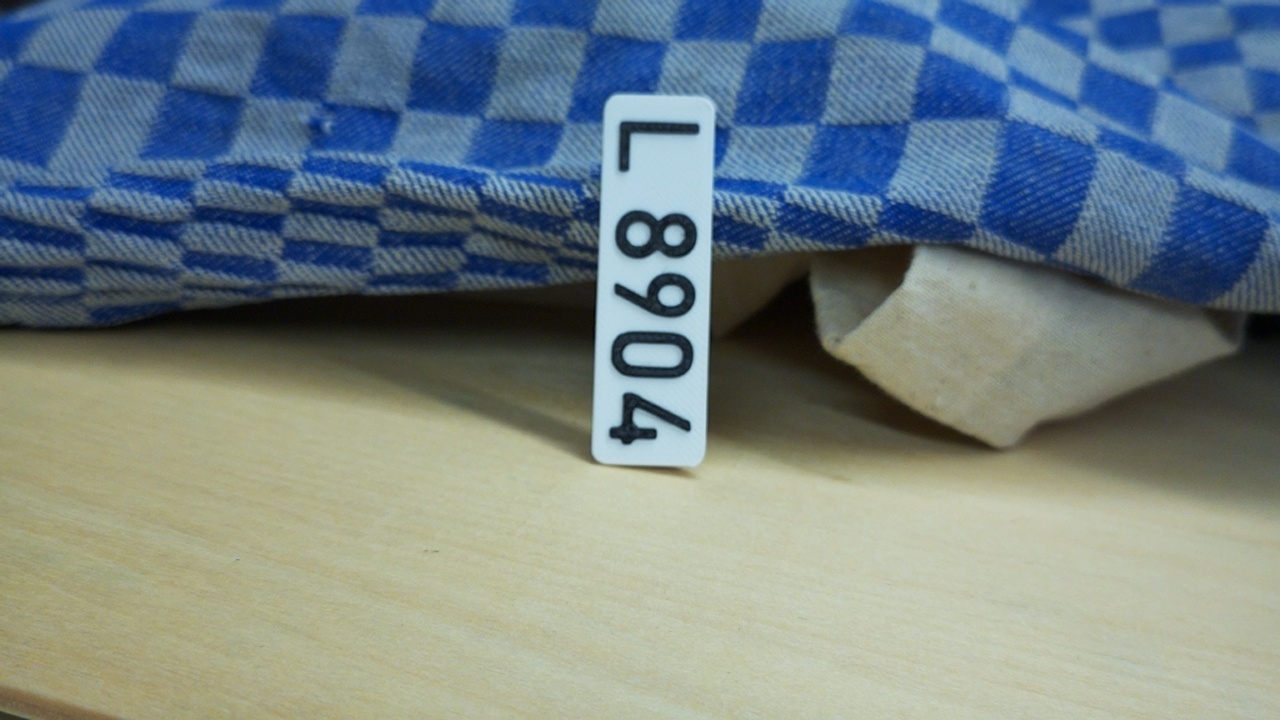license_plate: (588, 91, 717, 473)
